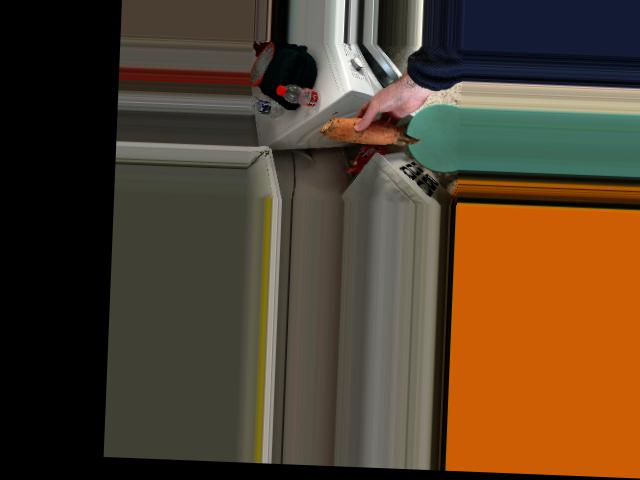sweet_potato: (327, 112, 413, 147)
